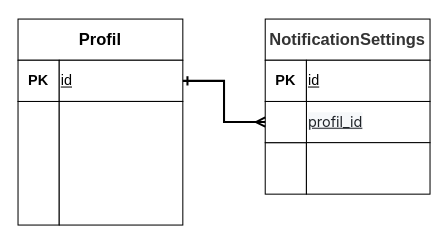
Some shapes in this 448 by 243 pixel diagram are drawn without their labels. The centre of each missing label's shape, as x and y in pixels:
first_name second_name last_name telephone e-mail photo profil_act: point 120,162
FK: point 285,121
parameter value: point 367,168
